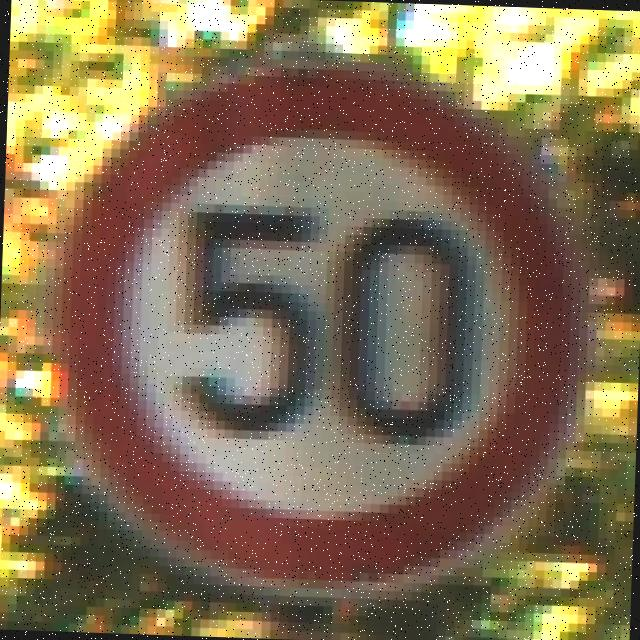Ograniczenie predkosci do 50: (62, 61, 586, 594)
